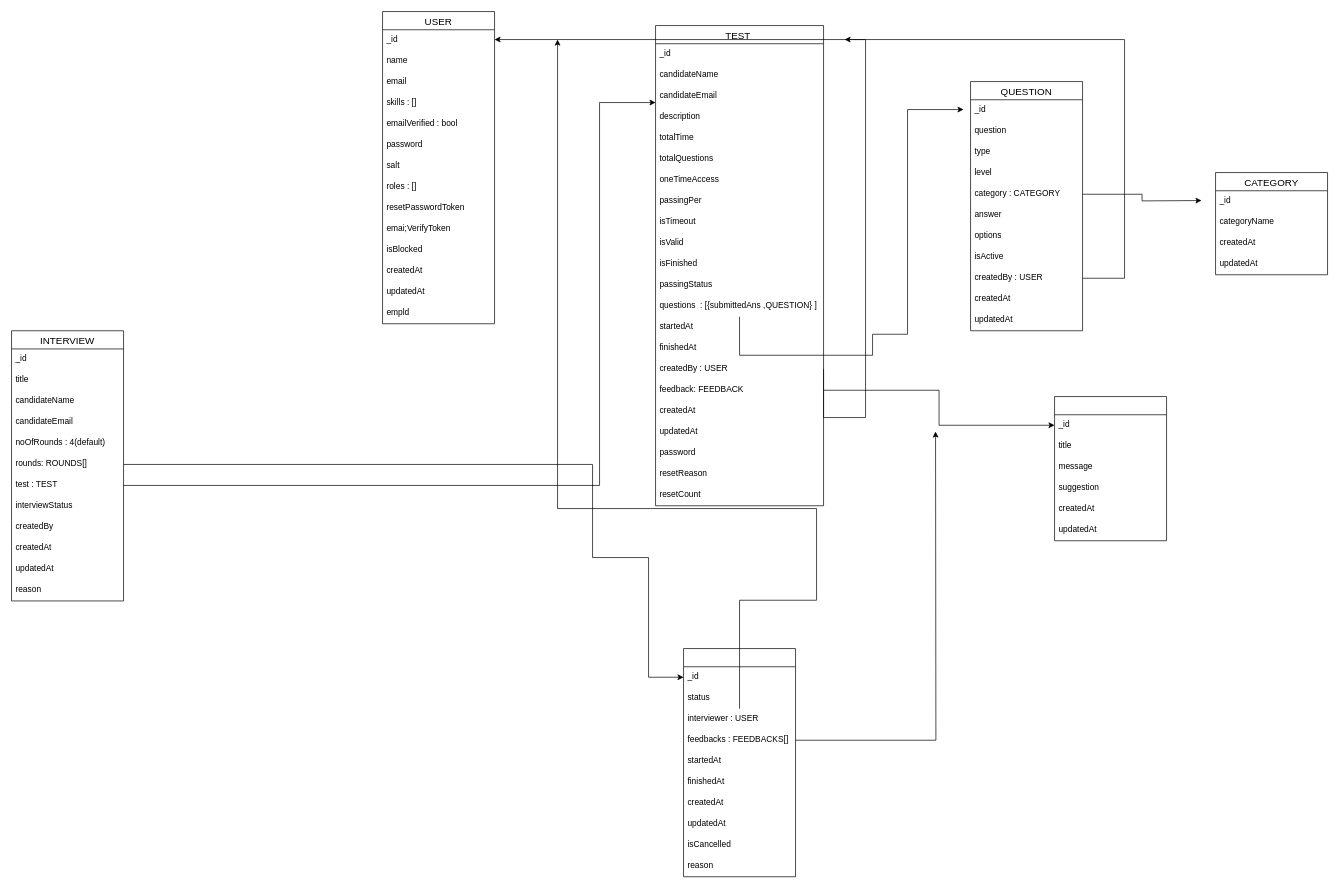
This 1339x888 diagram has some shape labels left out. Here are the shapes that lost their labels. From the top down, the box of each, then its label:
(1054, 396, 1167, 541): FEEDBACK
(683, 648, 796, 877): ROUNDS
